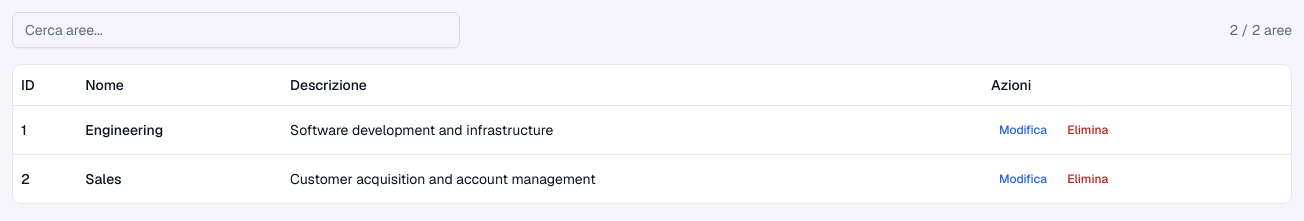
Test: BusinessAreaTable › shows "no business areas match" when search has no results
Type "xyz-no-match" into the field named "cerca aree di business" at {"x": 236, "y": 30}, box [12,12,460,48]
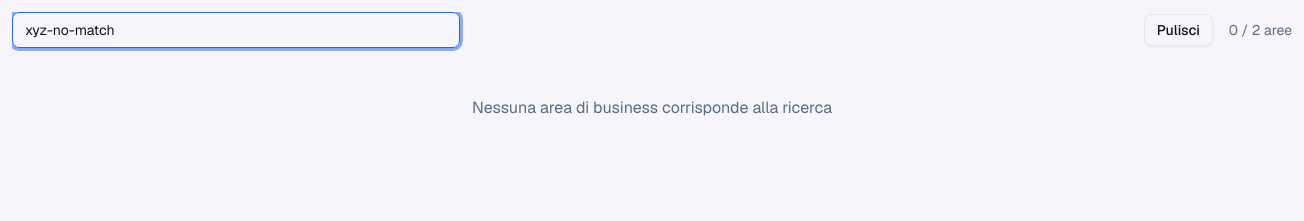
Expected: the text "Nessuna area di business corrisponde alla ricerca" is shown, [472,97,832,118]
